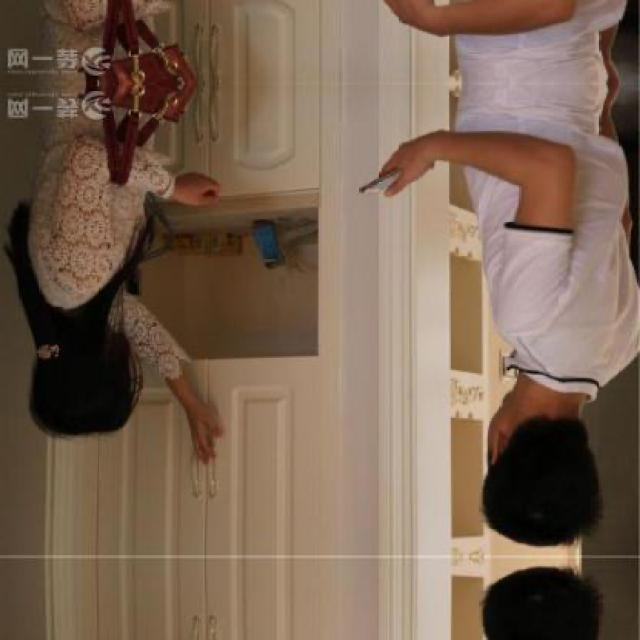sin casco: (482, 330, 601, 560), (27, 310, 174, 483)
